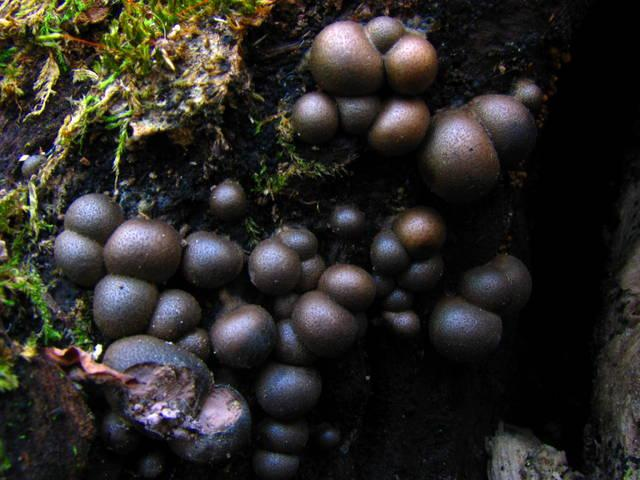poisonous_mushroom: (48, 13, 543, 477), (290, 14, 438, 153), (98, 333, 251, 464), (419, 92, 537, 202), (307, 19, 384, 94), (102, 216, 182, 281), (428, 294, 503, 359), (383, 32, 438, 94), (62, 191, 123, 240), (290, 89, 338, 143)
